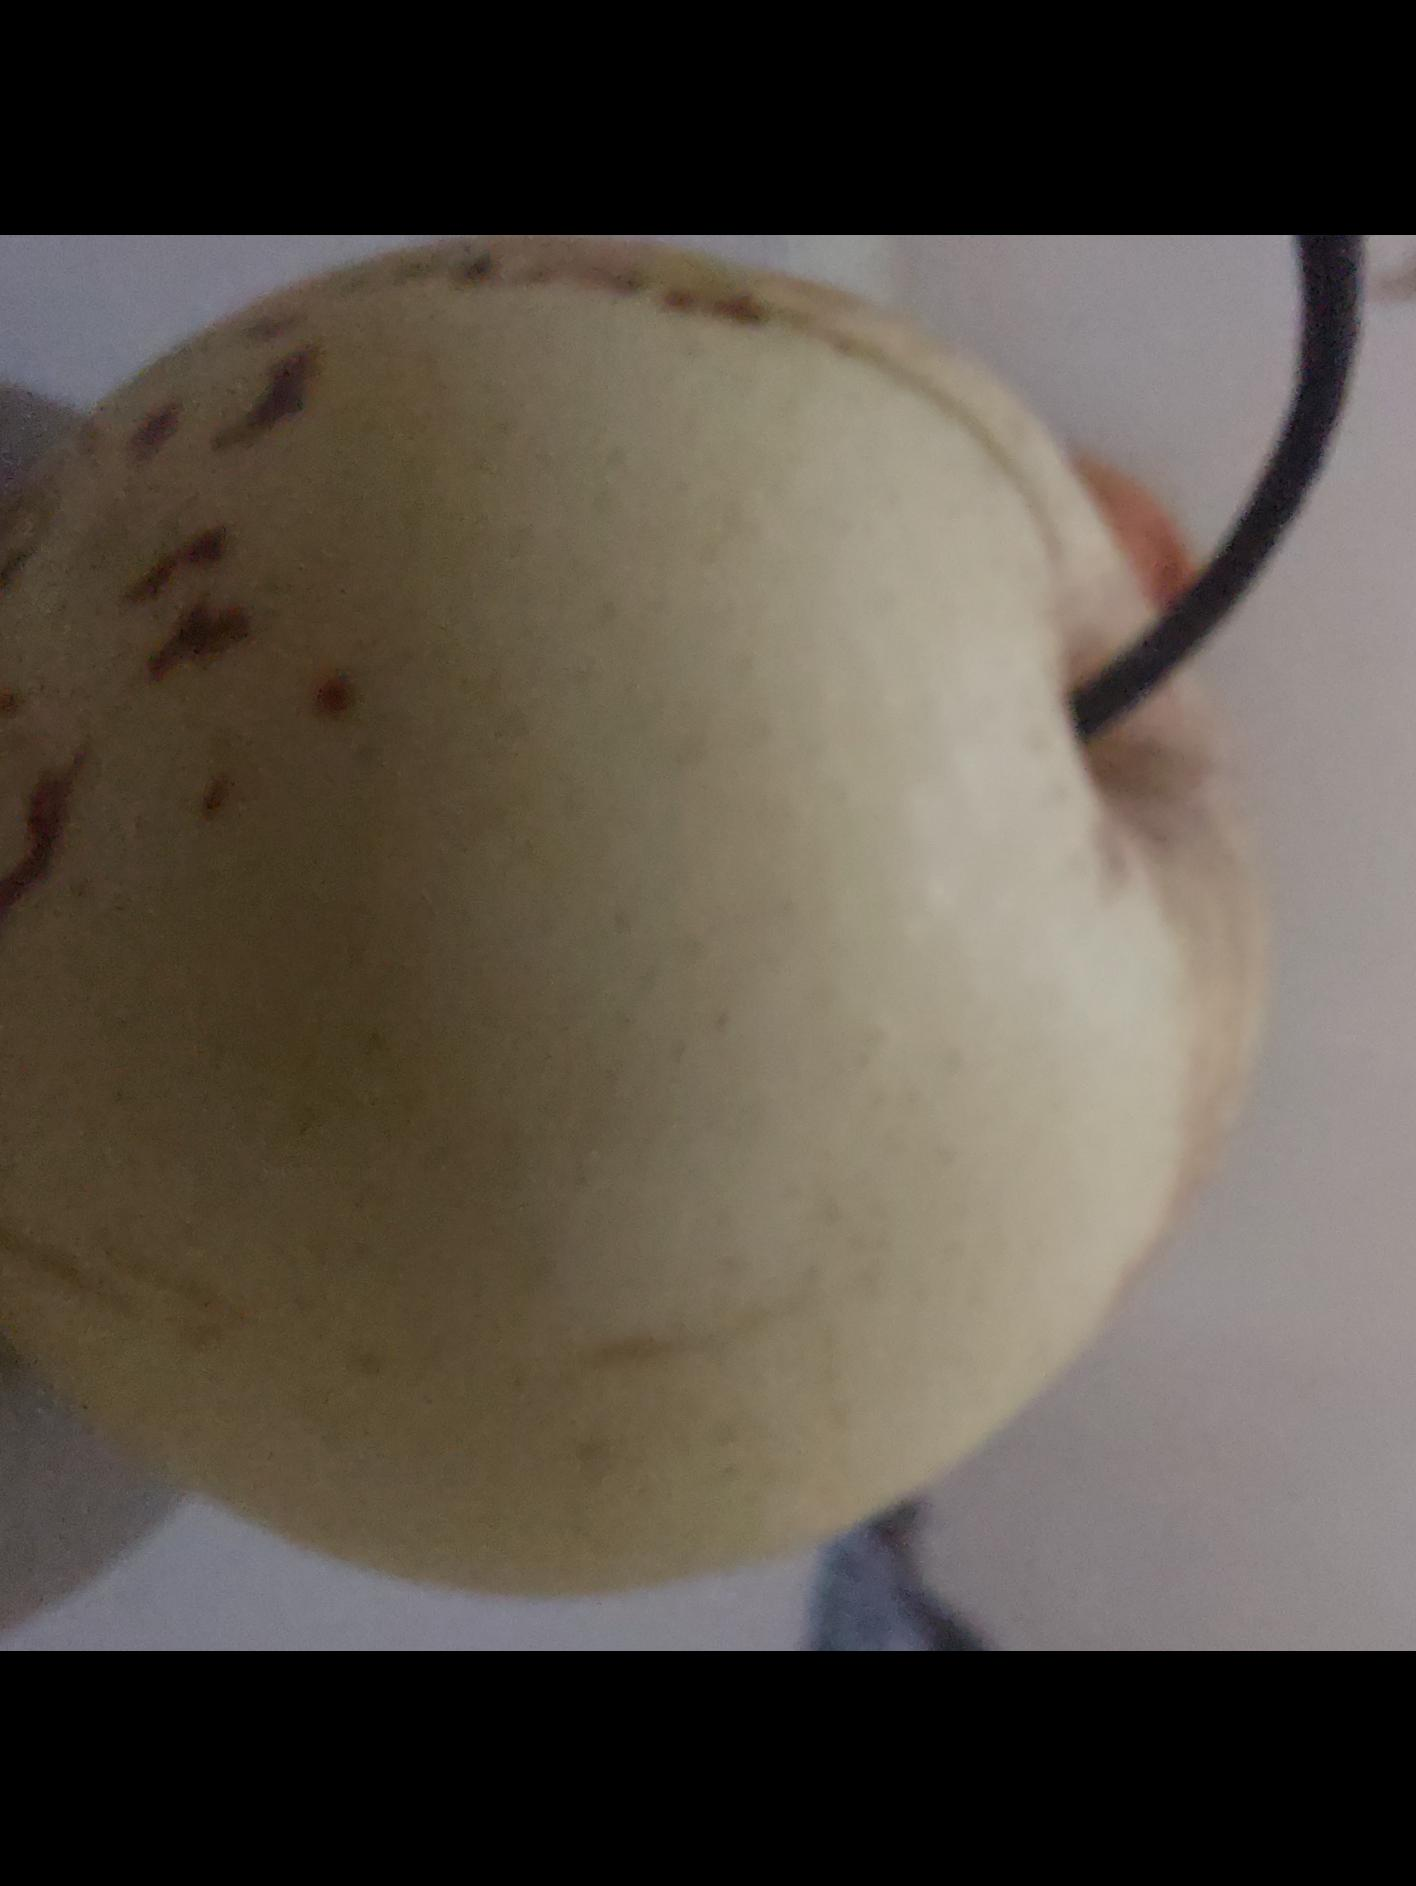Bad Pear: (0, 248, 1223, 1584)
